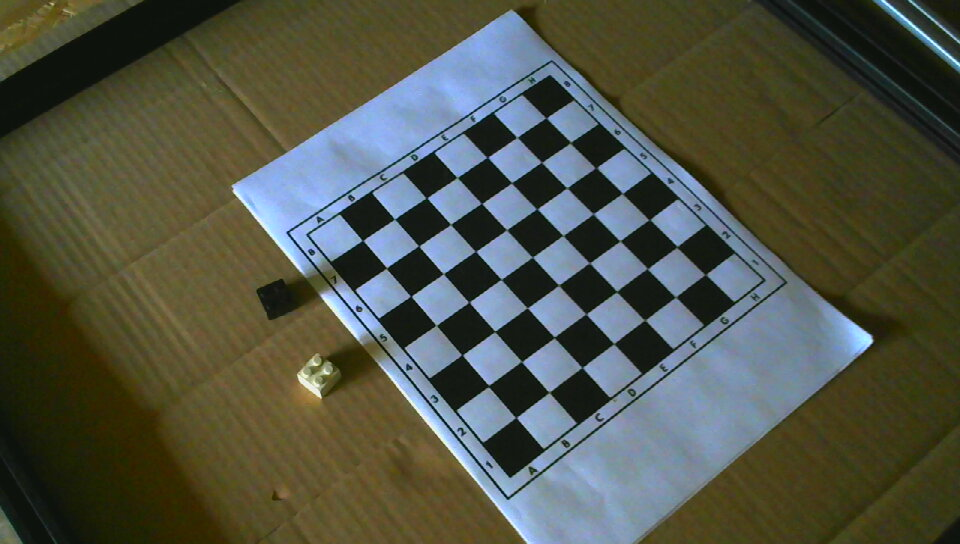bp: (257, 278, 296, 320)
wp: (297, 353, 342, 400)
